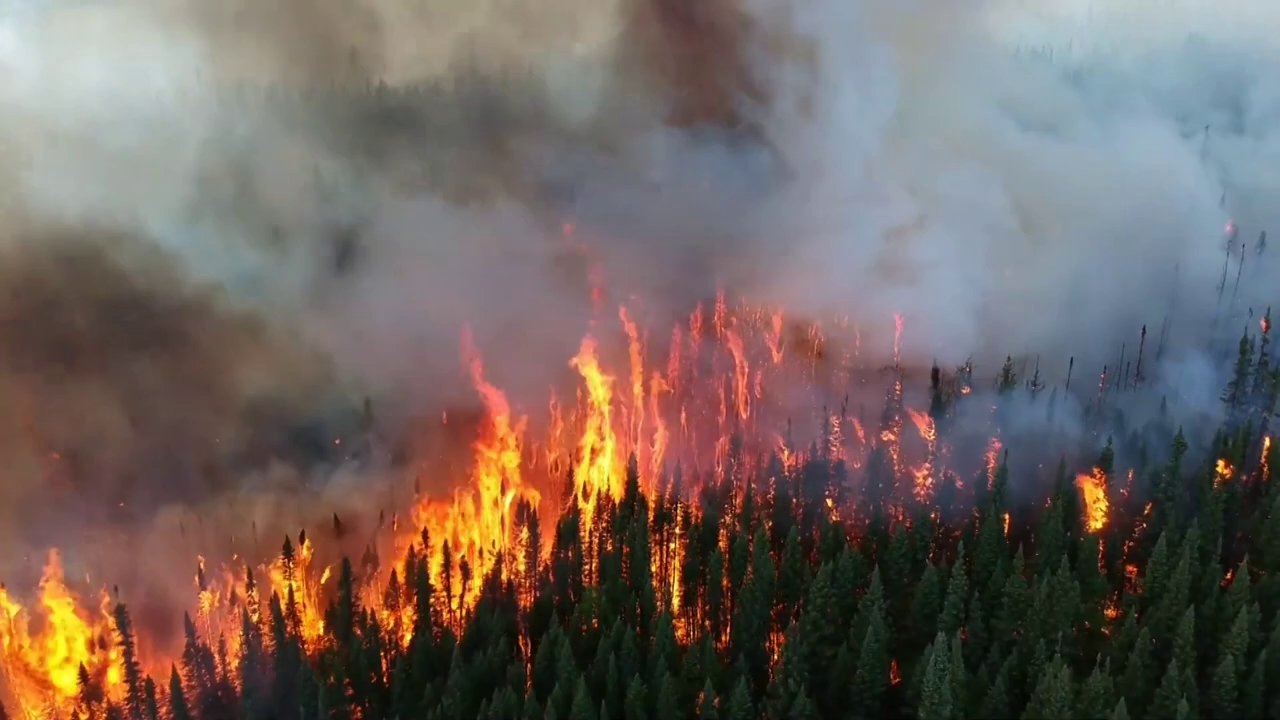forest_fire: (357, 298, 789, 646), (0, 550, 137, 717), (766, 409, 941, 500), (262, 531, 339, 648), (1075, 466, 1110, 532), (1213, 457, 1235, 486)
